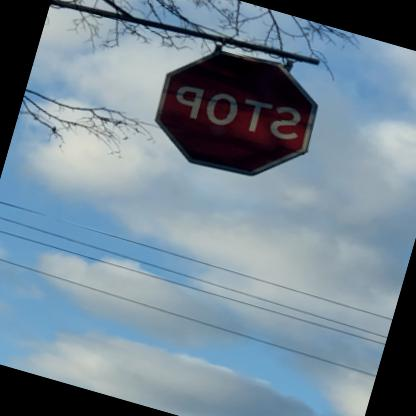stop: (146, 32, 331, 192)
